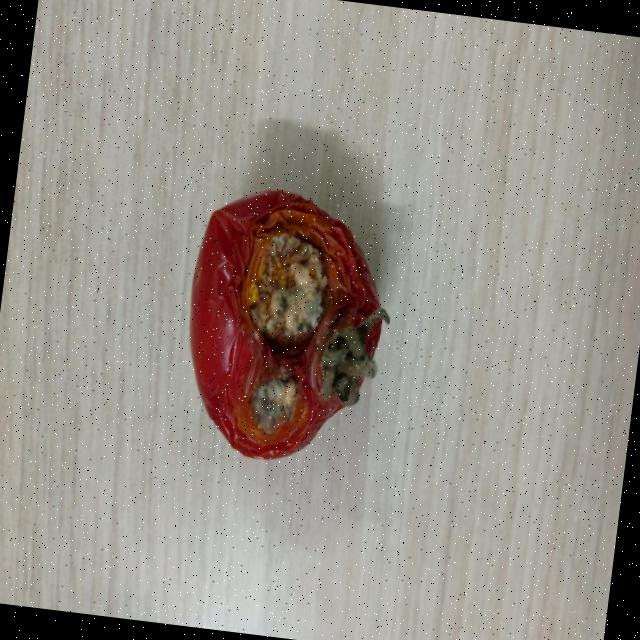Rotten: (170, 182, 397, 472)
